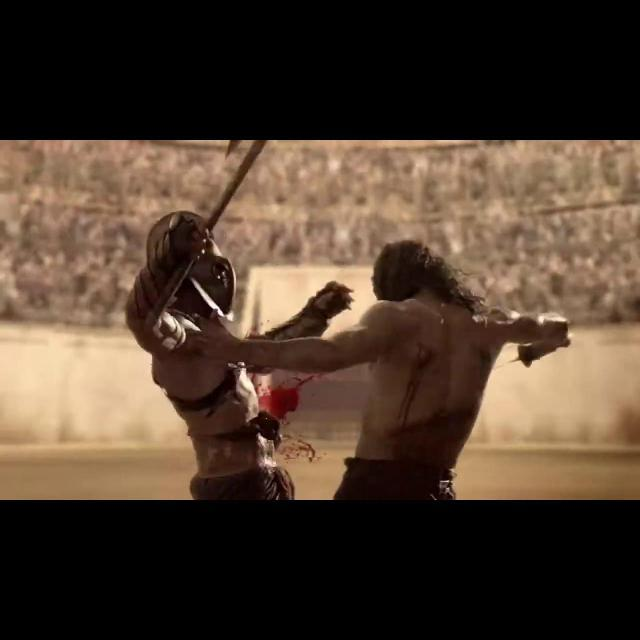blood: (248, 368, 323, 430), (274, 432, 319, 462)
